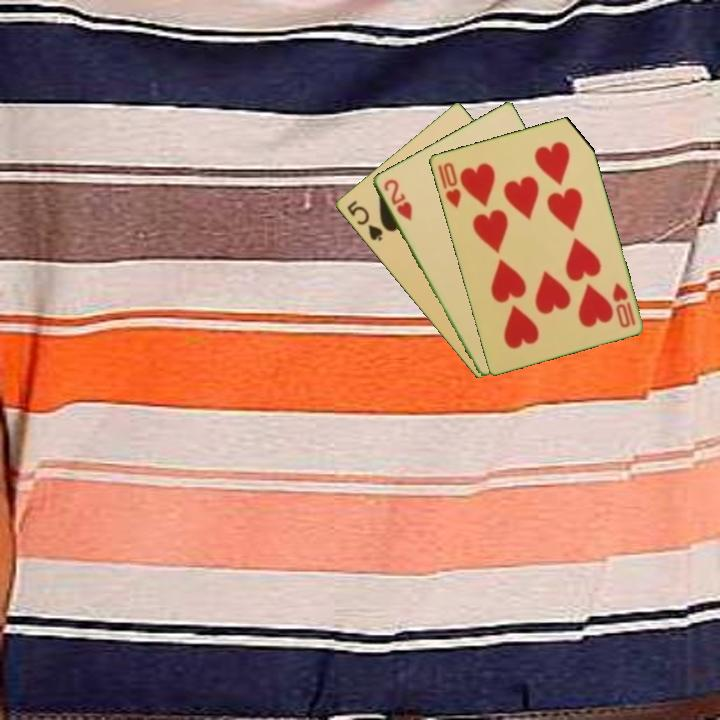10h: (434, 159, 464, 211), (608, 278, 638, 330)
2h: (380, 175, 415, 224)
5s: (343, 197, 385, 244)
